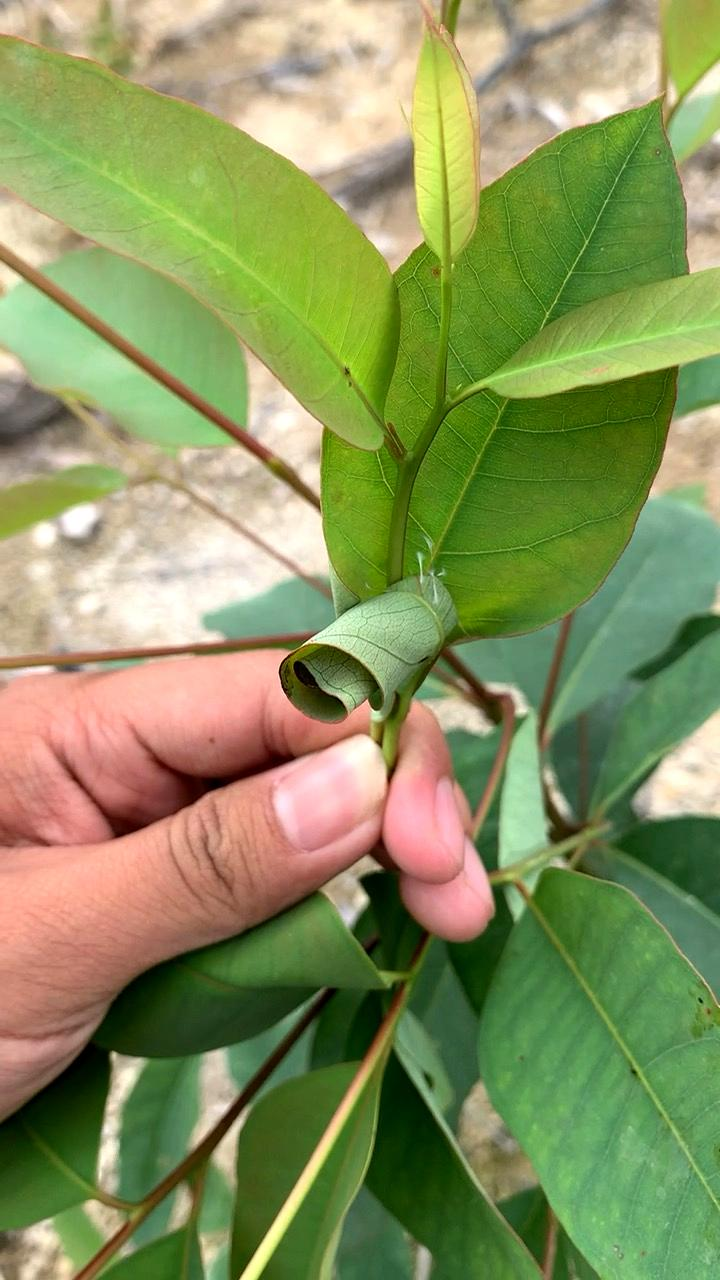Leaf Roller - Leaf: (223, 526, 533, 768)
